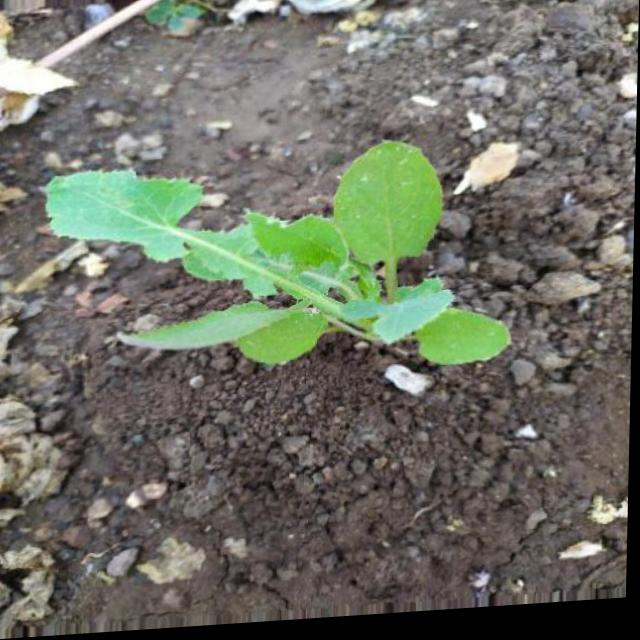crop: (37, 118, 522, 418)
